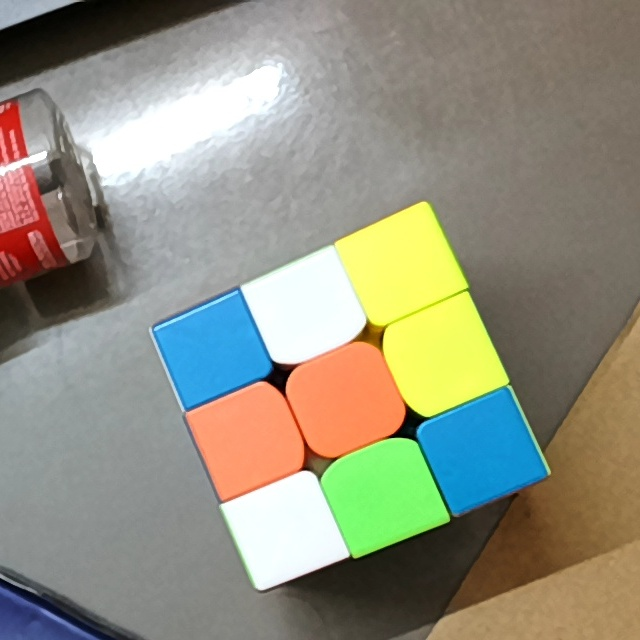tile: (306, 366, 381, 439), (348, 457, 421, 531), (212, 402, 285, 475), (410, 318, 482, 392), (446, 416, 519, 486), (247, 497, 320, 565), (365, 229, 433, 301), (267, 276, 340, 343), (174, 317, 249, 381)
